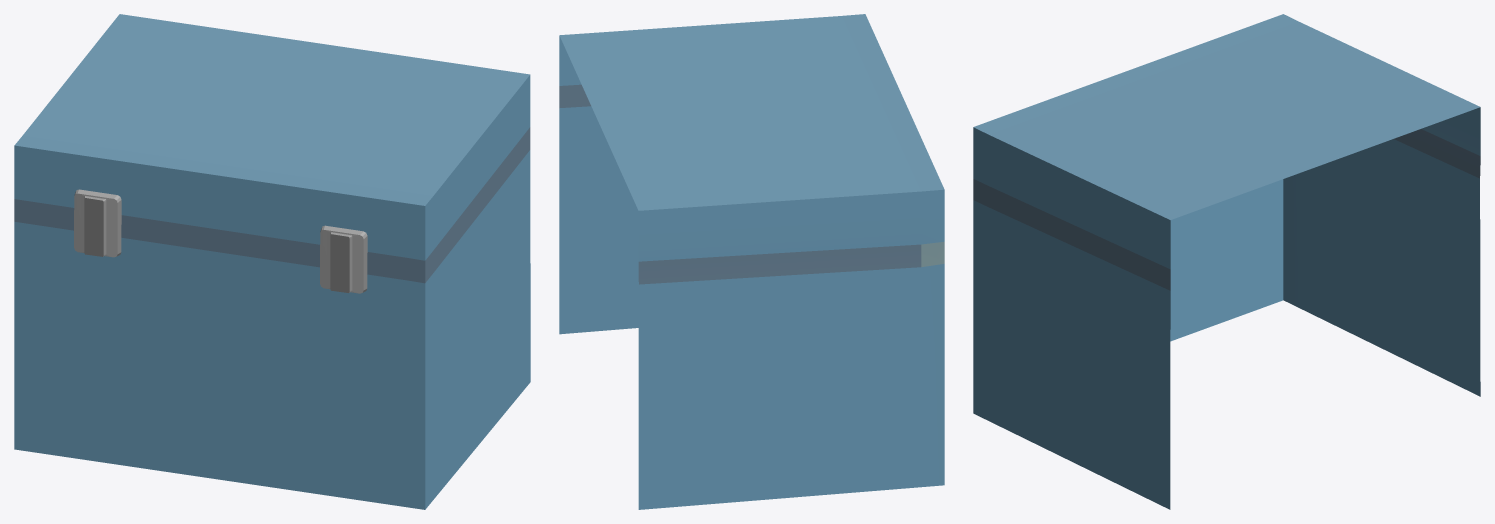
File: MSH_QuestObject_table_03.fbx
3 views of the same model, side by side, from view 1: azimuth 30°, elevation 25°; view 2: azimuth 150°, elevation 25°; view 3: azimuth 270°, elevation 25° (orthographic). The views are drawn at different scales.
Visible parts, largest first — view 1: MSH_QuestObject_table_03; view 2: MSH_QuestObject_table_03; view 3: MSH_QuestObject_table_03.
Boxes of the visible parts, x1,y1,x2,y2 form: MSH_QuestObject_table_03: (14, 14, 530, 509); MSH_QuestObject_table_03: (559, 14, 944, 509); MSH_QuestObject_table_03: (973, 14, 1480, 509).
Bounding box in the file's own units: 1.28 × 0.8241 × 1.31.
